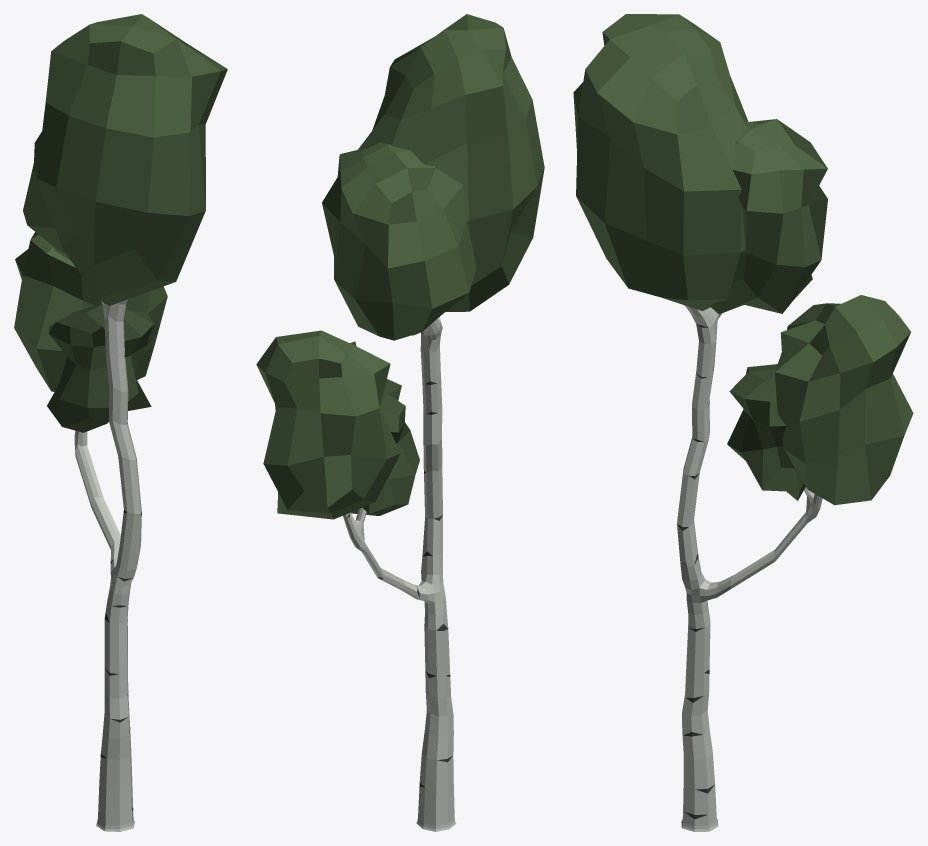
File: birch5.glb
3 renders of one model, left to right at view 1: azimuth 30°, elevation 25°; view 2: azimuth 150°, elevation 25°; view 3: azimuth 270°, elevation 25°, orthographic. The views are drawn at different scales.
Parts seen in each view (by area): view 1: BirchTree_5; view 2: BirchTree_5; view 3: BirchTree_5.
Part boxes in pixels (box(x1,y1,x2,y2)): BirchTree_5: box(14, 14, 227, 831); BirchTree_5: box(256, 14, 544, 831); BirchTree_5: box(573, 14, 913, 831).
Bounding box in the file's own units: 1.19 × 5.01 × 1.93.
